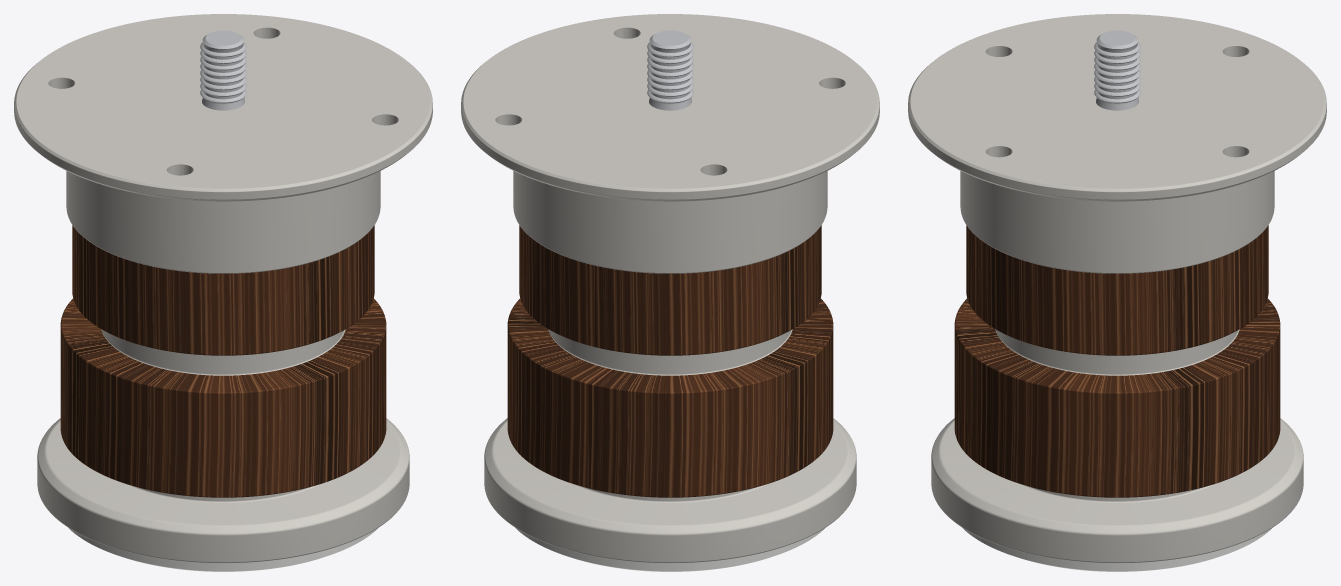
File: sofa-legs-1233.glb
3 views of the same model, side by side, from view 1: azimuth 30°, elevation 25°; view 2: azimuth 150°, elevation 25°; view 3: azimuth 270°, elevation 25° (orthographic).
Parts seen in each view (by area): view 1: Body, Plate, Stud, Glide; view 2: Body, Plate, Stud, Glide; view 3: Body, Plate, Stud, Glide.
Boxes of the visible parts, box(x1,y1,x2,y2) form: Body: box(37, 171, 409, 563); Plate: box(14, 14, 432, 201); Stud: box(200, 30, 246, 110); Glide: box(69, 528, 377, 571); Body: box(484, 171, 856, 563); Plate: box(461, 14, 879, 201); Stud: box(647, 30, 693, 110); Glide: box(516, 528, 824, 571); Body: box(931, 171, 1303, 563); Plate: box(908, 14, 1326, 201); Stud: box(1094, 30, 1140, 110); Glide: box(963, 528, 1271, 571).
Bounding box in the file's own units: 0.072 × 0.0882 × 0.072.
Materials: 4 (1 with a texture image).
